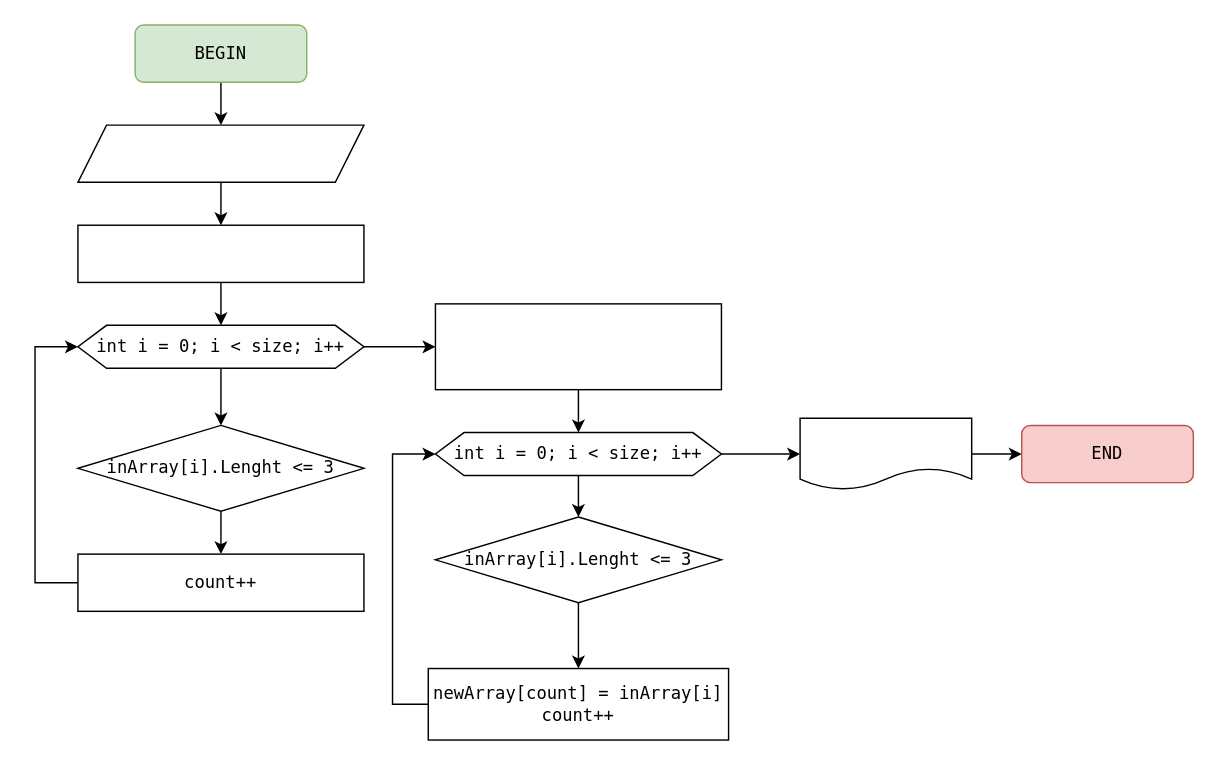
The diagram is 1218 pixels wide and 765 high, and some of its shapes have lost their labels. Here are the shapes that lost their labels. From the top down, the centre of each, then its label:
At point (220, 153): "string[] inArray".
At point (220, 253): "int size = inArray.Lenght int count = 0".
At point (577, 346): "string[] newArray = new string[count] count = 0".
At point (885, 453): "return newArray".
